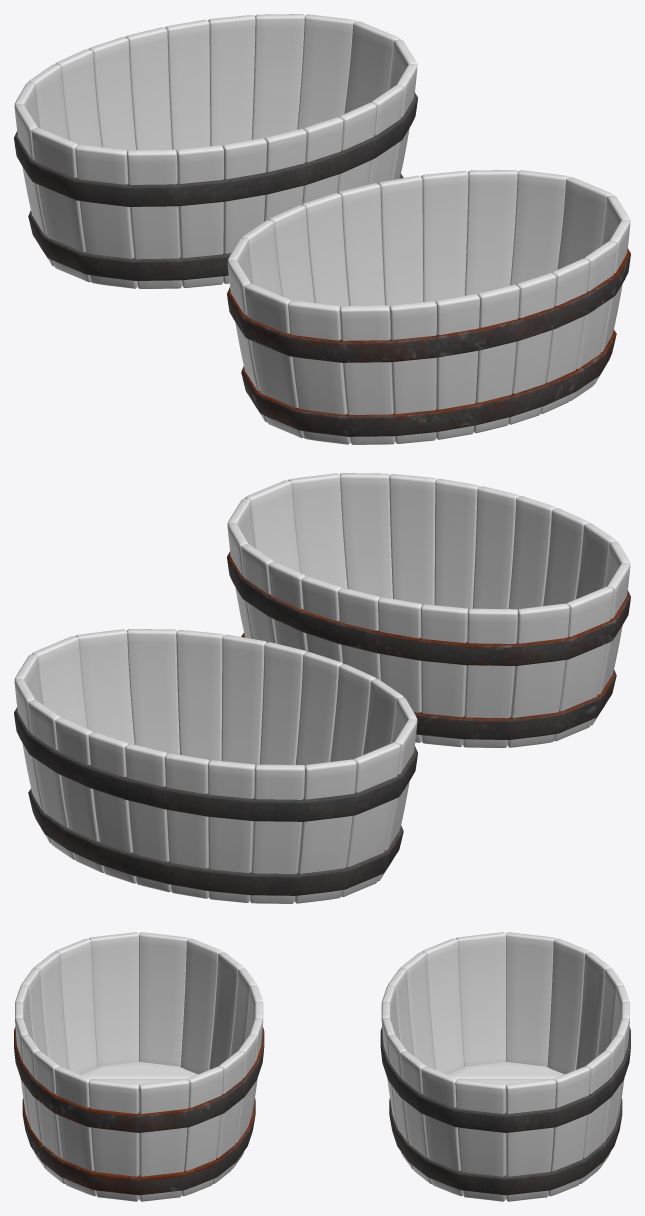
The model's file is WoodenTub.fbx.
3 views of the same model, one above another, from view 1: azimuth 30°, elevation 25°; view 2: azimuth 150°, elevation 25°; view 3: azimuth 270°, elevation 25° (orthographic). The views are drawn at different scales.
Parts seen in each view (by area): view 1: WoodenTubDirty, WoodenTubClean; view 2: WoodenTubClean, WoodenTubDirty; view 3: WoodenTubDirty, WoodenTubClean.
Boxes of the visible parts, bbox=[...] form: WoodenTubDirty: bbox=[227, 170, 630, 444]; WoodenTubClean: bbox=[14, 14, 417, 288]; WoodenTubClean: bbox=[14, 629, 417, 903]; WoodenTubDirty: bbox=[227, 473, 630, 747]; WoodenTubDirty: bbox=[14, 932, 264, 1201]; WoodenTubClean: bbox=[380, 932, 630, 1201].
Bounding box in the file's own units: 101 × 37.6 × 168.
